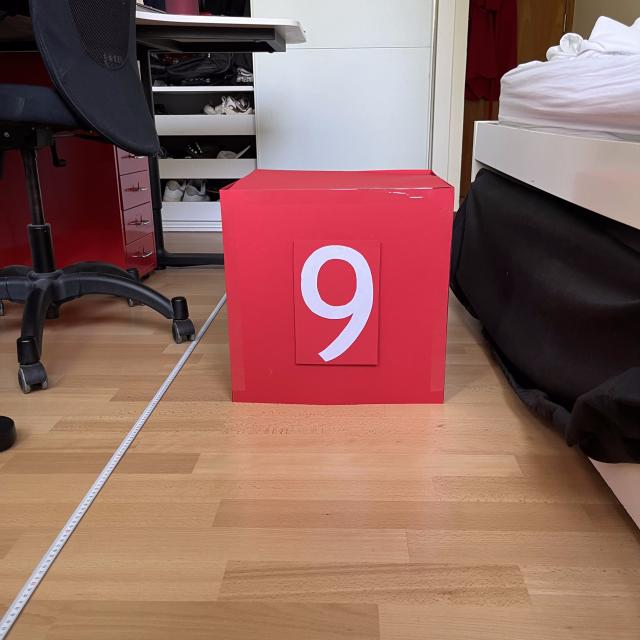box: (215, 164, 456, 408)
